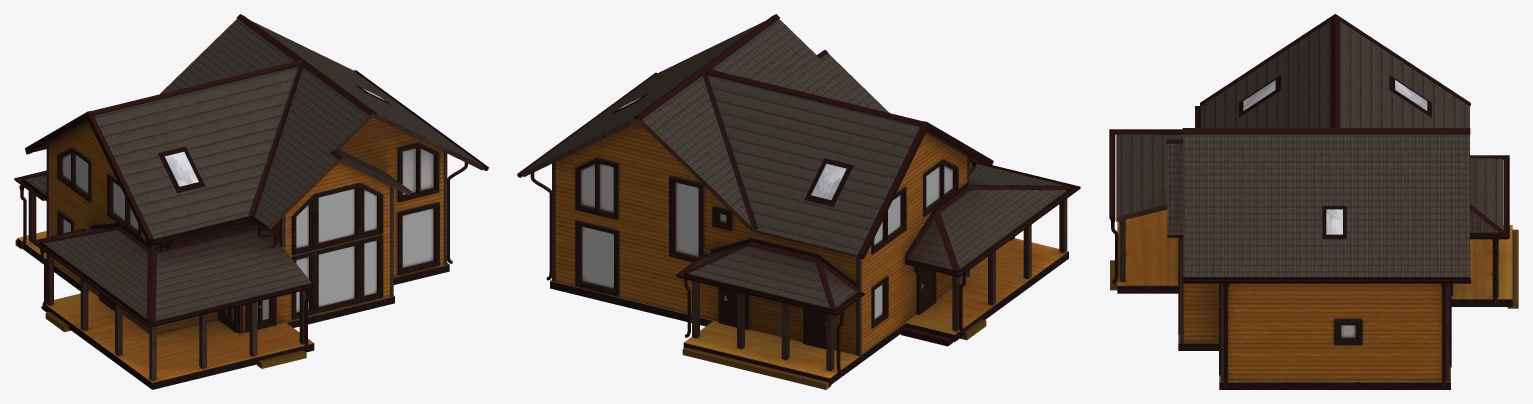
Rendered from home.glb.
3 views of the same model, side by side, from view 1: azimuth 30°, elevation 25°; view 2: azimuth 150°, elevation 25°; view 3: azimuth 270°, elevation 25° (orthographic). The views are drawn at different scales.
Visible parts, largest first — view 1: 3. Roof 1_258, 4. Roof 2_255, 2. Main_254, 1. Foundation_257, Glass.002_77, Posts 1_259, Glass.003_78, Window.001_61, Rainshield.004_44, Window.002_62, Drain.001_32, Rainshield.006_46 (+15 smaller); view 2: 3. Roof 1_258, 2. Main_254, 1. Foundation_257, 4. Roof 2_255, 5. Roof 3_256, Glass.004_79, Rainshield.004_44, Posts 2_260, Rainshield.006_46, Posts 1_259, Glass.005_80, Door.003_74 (+19 smaller); view 3: 3. Roof 1_258, 2. Main_254, 1. Foundation_257, 4. Roof 2_255, Rainshield.004_44, 5. Roof 3_256, Drain_35, 6. Moldings_261, Rainshield.006_46, Glass.010_86, Drain.003_34, Drain.001_32 (+7 smaller).
Part boxes in pixels (left/top/right/bottom): 3. Roof 1_258: left=33, top=18, right=484, bottom=240; 4. Roof 2_255: left=41, top=228, right=311, bottom=322; 2. Main_254: left=49, top=117, right=443, bottom=334; 1. Foundation_257: left=17, top=231, right=449, bottom=389; Glass.002_77: left=296, top=189, right=376, bottom=312; Posts 1_259: left=46, top=253, right=306, bottom=380; Glass.003_78: left=402, top=148, right=433, bottom=267; Window.001_61: left=292, top=235, right=383, bottom=319; Rainshield.004_44: left=91, top=14, right=376, bottom=115; Window.002_62: left=292, top=183, right=383, bottom=255; Drain.001_32: left=32, top=228, right=313, bottom=327; Rainshield.006_46: left=25, top=111, right=153, bottom=243; 3. Roof 1_258: left=522, top=19, right=983, bottom=257; 2. Main_254: left=555, top=122, right=967, bottom=354; 1. Foundation_257: left=550, top=238, right=1068, bottom=385; 4. Roof 2_255: left=905, top=162, right=1071, bottom=271; 5. Roof 3_256: left=685, top=246, right=859, bottom=310; Glass.004_79: left=581, top=164, right=613, bottom=288; Rainshield.004_44: left=634, top=14, right=922, bottom=125; Posts 2_260: left=692, top=281, right=834, bottom=370; Rainshield.006_46: left=858, top=121, right=992, bottom=259; Posts 1_259: left=952, top=198, right=1067, bottom=331; Glass.005_80: left=675, top=182, right=726, bottom=256; Door.003_74: left=718, top=287, right=826, bottom=349; 3. Roof 1_258: left=1167, top=21, right=1469, bottom=278; 2. Main_254: left=1183, top=283, right=1442, bottom=380; 1. Foundation_257: left=1117, top=209, right=1512, bottom=389; 4. Roof 2_255: left=1116, top=131, right=1183, bottom=221; Rainshield.004_44: left=1182, top=16, right=1470, bottom=133; 5. Roof 3_256: left=1470, top=158, right=1503, bottom=234; Drain_35: left=1182, top=278, right=1470, bottom=283; 6. Moldings_261: left=1179, top=237, right=1449, bottom=381; Rainshield.006_46: left=1200, top=14, right=1470, bottom=106; Glass.010_86: left=1243, top=80, right=1427, bottom=234; Drain.003_34: left=1470, top=155, right=1509, bottom=239; Drain.001_32: left=1109, top=129, right=1182, bottom=220.
Size of the model in its own units: 4.47 by 2.26 by 3.9.
Materials: 4 (4 with a texture image).
